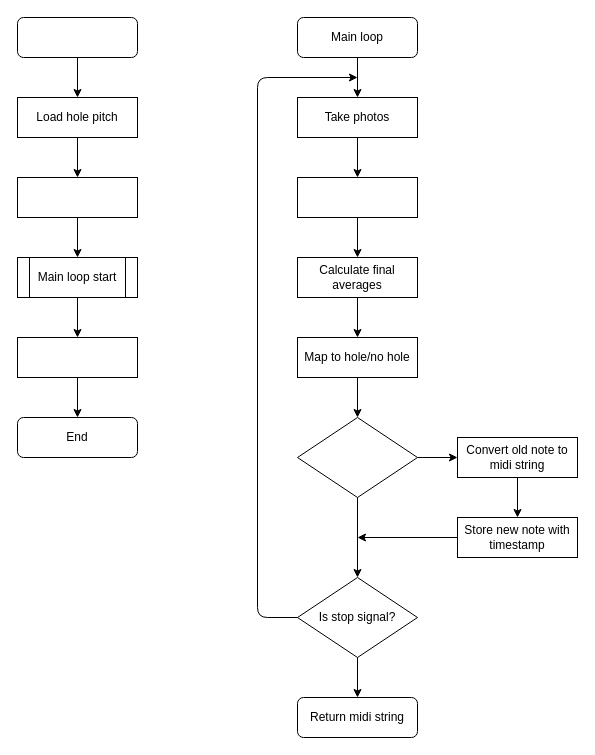
Image size: 595x755. Some labels were removed from this diagram. The shapes that lost their labels are listed below. From the top down, each one's centre as x and y in pixels, then its label:
At [77,37]: "Start".
At [77,197]: "User calibrate hole detection".
At [357,197]: "Crop out relevant pixels".
At [77,357]: "Store midi string to file".
At [357,457]: "Notes have changed?".
